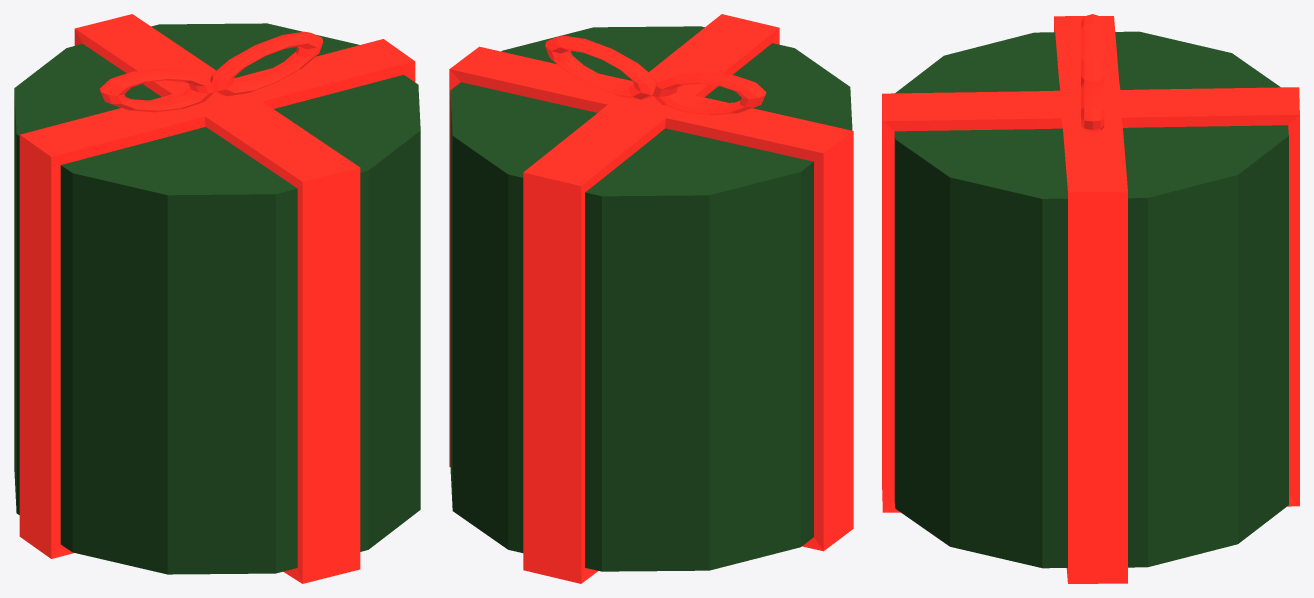
Rendered from podarok_krugliy.fbx.
3 renders of one model, left to right at view 1: azimuth 30°, elevation 25°; view 2: azimuth 150°, elevation 25°; view 3: azimuth 270°, elevation 25°, orthographic. The views are drawn at different scales.
Parts seen in each view (by area): view 1: подарок.001; view 2: подарок.001; view 3: подарок.001.
Part boxes in pixels (bbox=[...]): подарок.001: bbox=[14, 14, 420, 583]; подарок.001: bbox=[449, 14, 853, 583]; подарок.001: bbox=[882, 14, 1299, 583].
Bounding box in the file's own units: 75.07 × 85.99 × 75.07.
